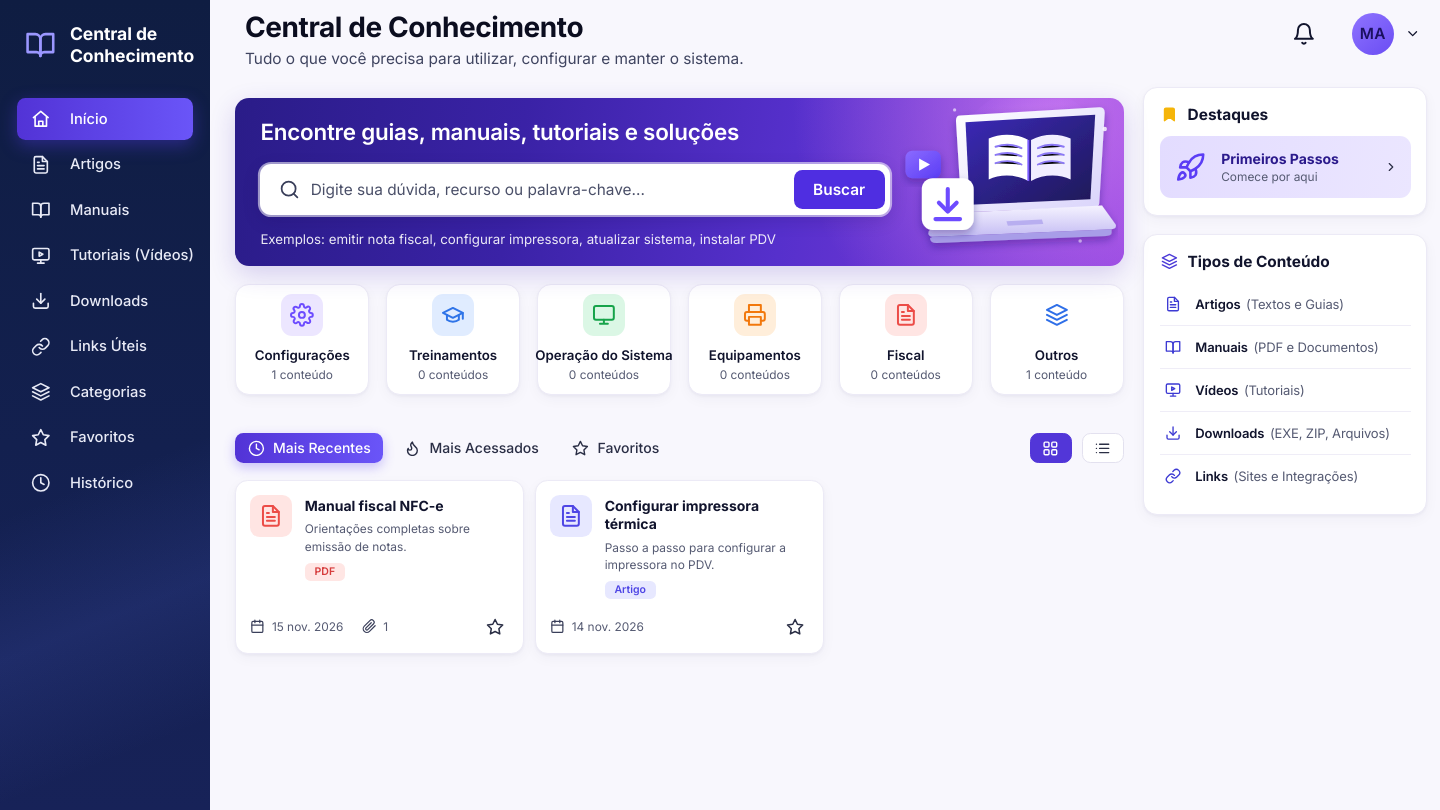
it: Central de Conhecimento › pesquisa pelo botão Buscar, mostra estado vazio e limpa a pesquisa
The image size is (1440, 810).
Later steps or results of the test are not shown.
In the search field named "pesquisar": (552, 190) [311,164,794,215], type "xyz-inexistente"
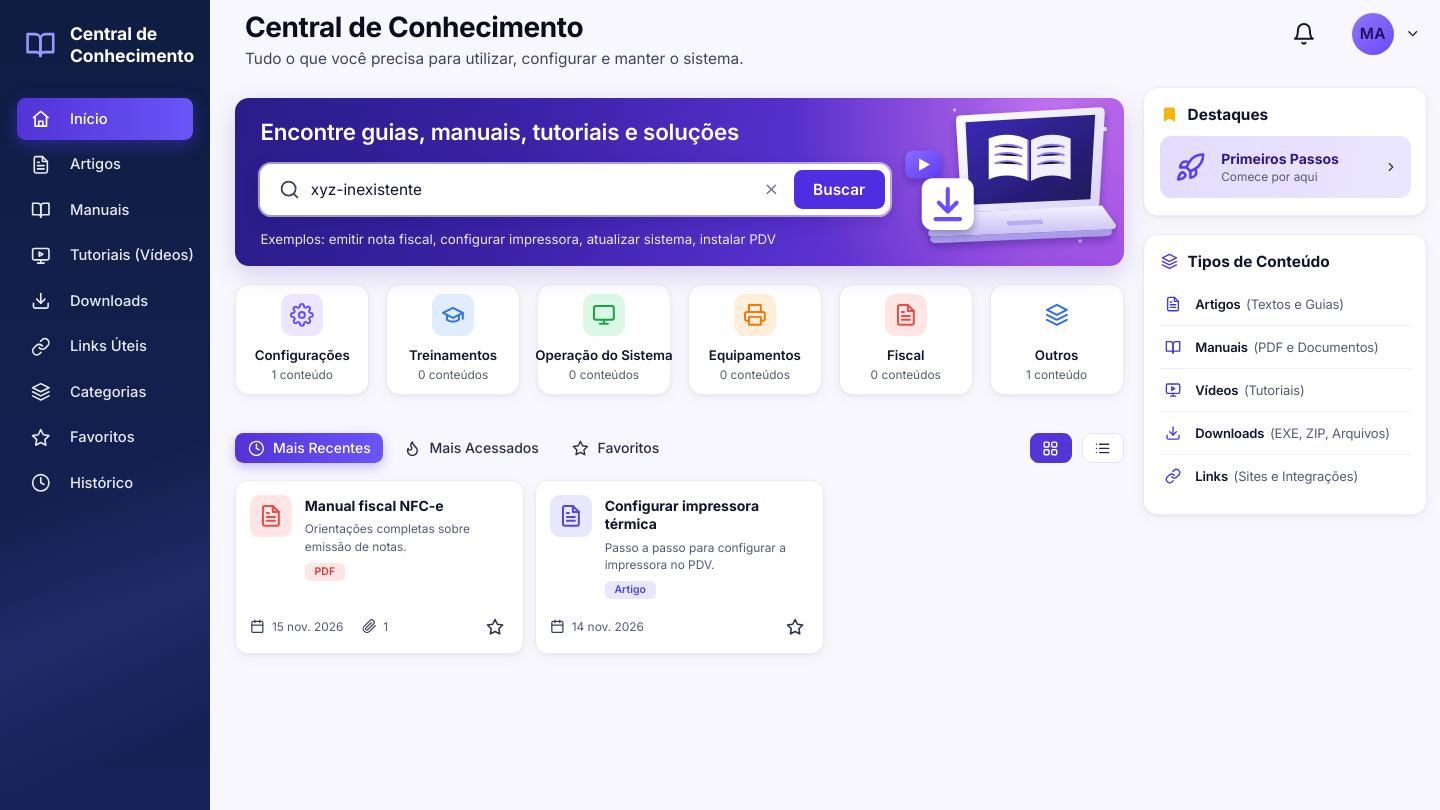
Click the button "Buscar": click(839, 190) [794,170,885,209]
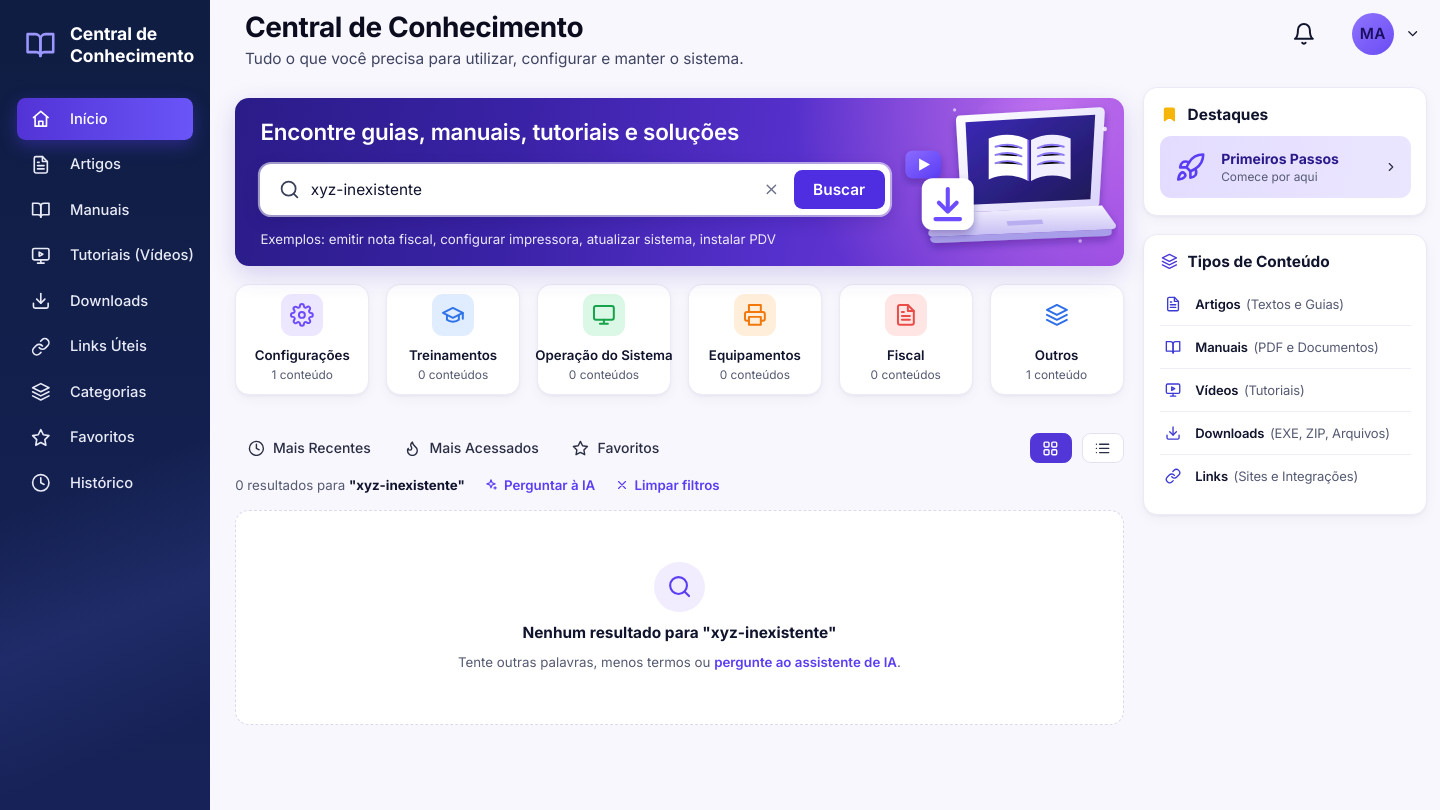
Result: the text "Nenhum resultado para \"xyz-inexistente\"" is shown at [522,623,836,642]
